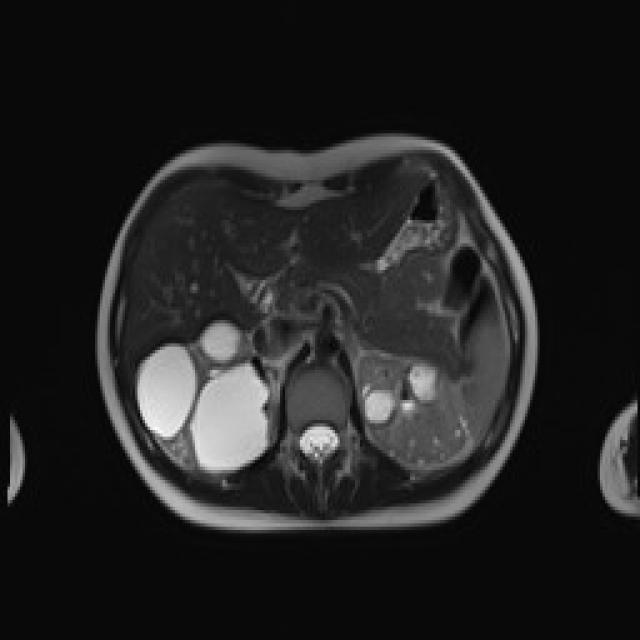sag: (134, 319, 280, 485)
sol: (357, 350, 473, 469)
